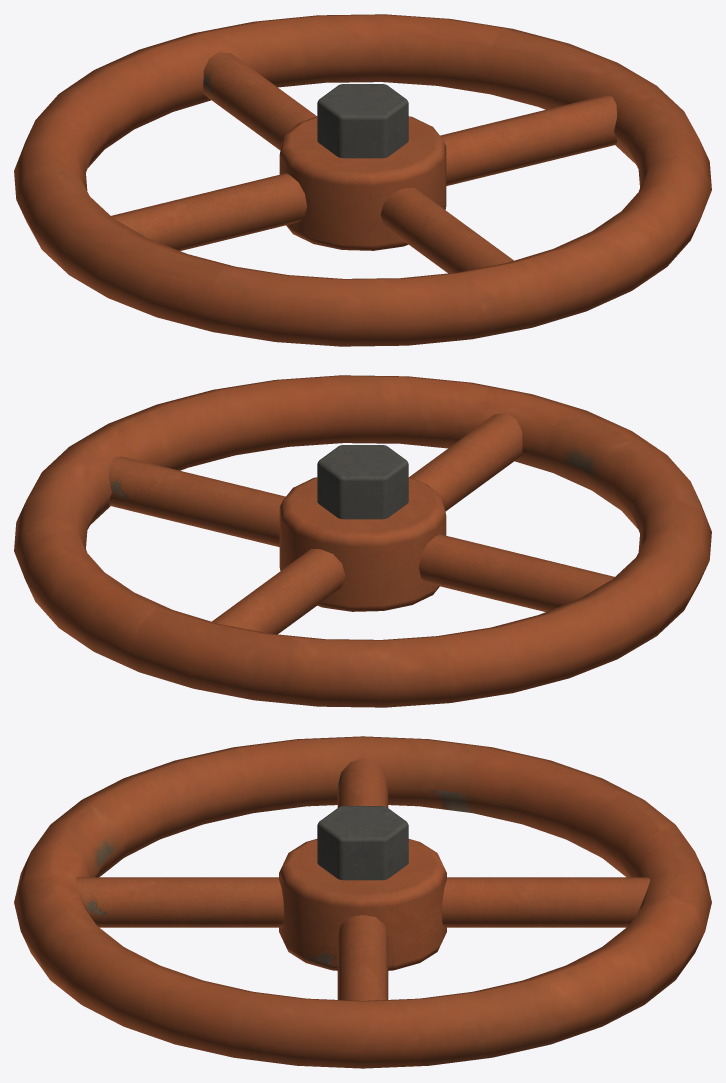
The model's file is SM_IntakeDemo_ValveHandle_Repaired.fbx.
3 views of the same model, one above another, from view 1: azimuth 30°, elevation 25°; view 2: azimuth 150°, elevation 25°; view 3: azimuth 270°, elevation 25° (orthographic).
Parts seen in each view (by area): view 1: SM_IntakeDemo_ValveHandle_Repaired; view 2: SM_IntakeDemo_ValveHandle_Repaired; view 3: SM_IntakeDemo_ValveHandle_Repaired.
Boxes of the visible parts, x1,y1,x2,y2 form: SM_IntakeDemo_ValveHandle_Repaired: (14, 14, 711, 346); SM_IntakeDemo_ValveHandle_Repaired: (14, 375, 711, 707); SM_IntakeDemo_ValveHandle_Repaired: (14, 736, 711, 1068).
Size of the model in its own units: 52.4 by 52.4 by 9.95.
